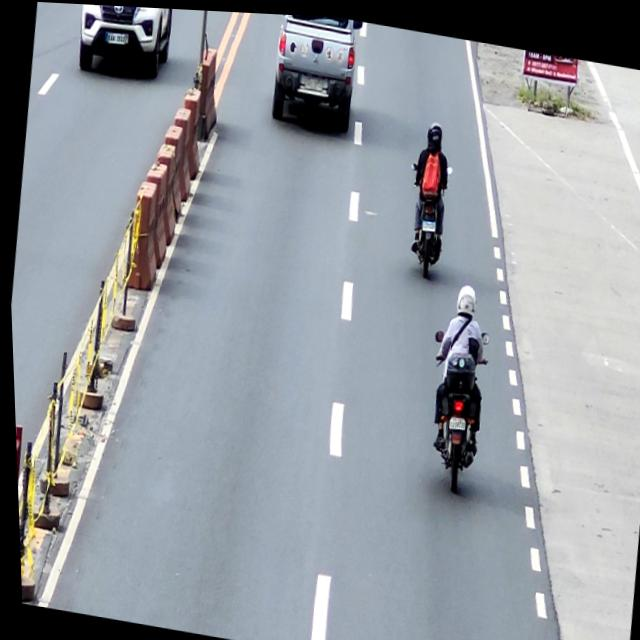Car: (261, 11, 365, 131), (73, 3, 177, 83)
License-Plate: (300, 69, 326, 91), (103, 27, 130, 47), (441, 407, 465, 429), (417, 213, 436, 230)
Motorcycle: (413, 318, 492, 493), (396, 153, 455, 277)
